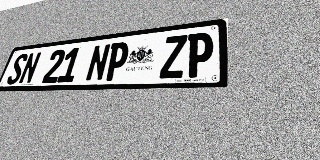1: (57, 47, 82, 83)
2: (42, 49, 67, 83)
N: (85, 43, 111, 82), (18, 52, 42, 84)
P: (185, 31, 214, 78), (103, 41, 130, 81)
S: (5, 53, 29, 85)
Z: (159, 35, 188, 79)
